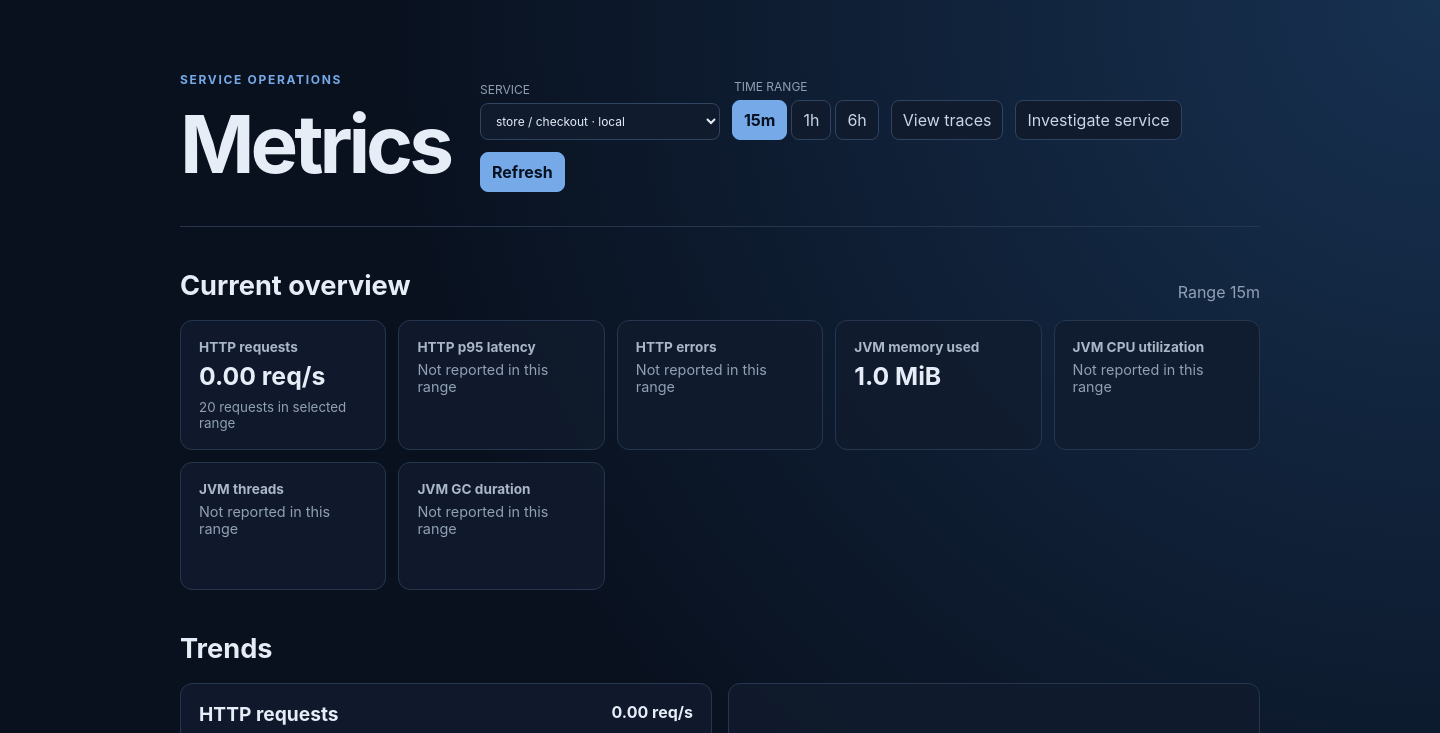
Test: Service metrics › never presents the previous service values while a new identity is loading
The width and height of the screenshot is (1440, 733).
Expected: the text "20 requests in selected range" is shown, x1=199 y1=399 x2=367 y2=431
Select "checkout · staging" in the dropdown labelled "Service": (600, 122) x1=480 y1=103 x2=720 y2=140
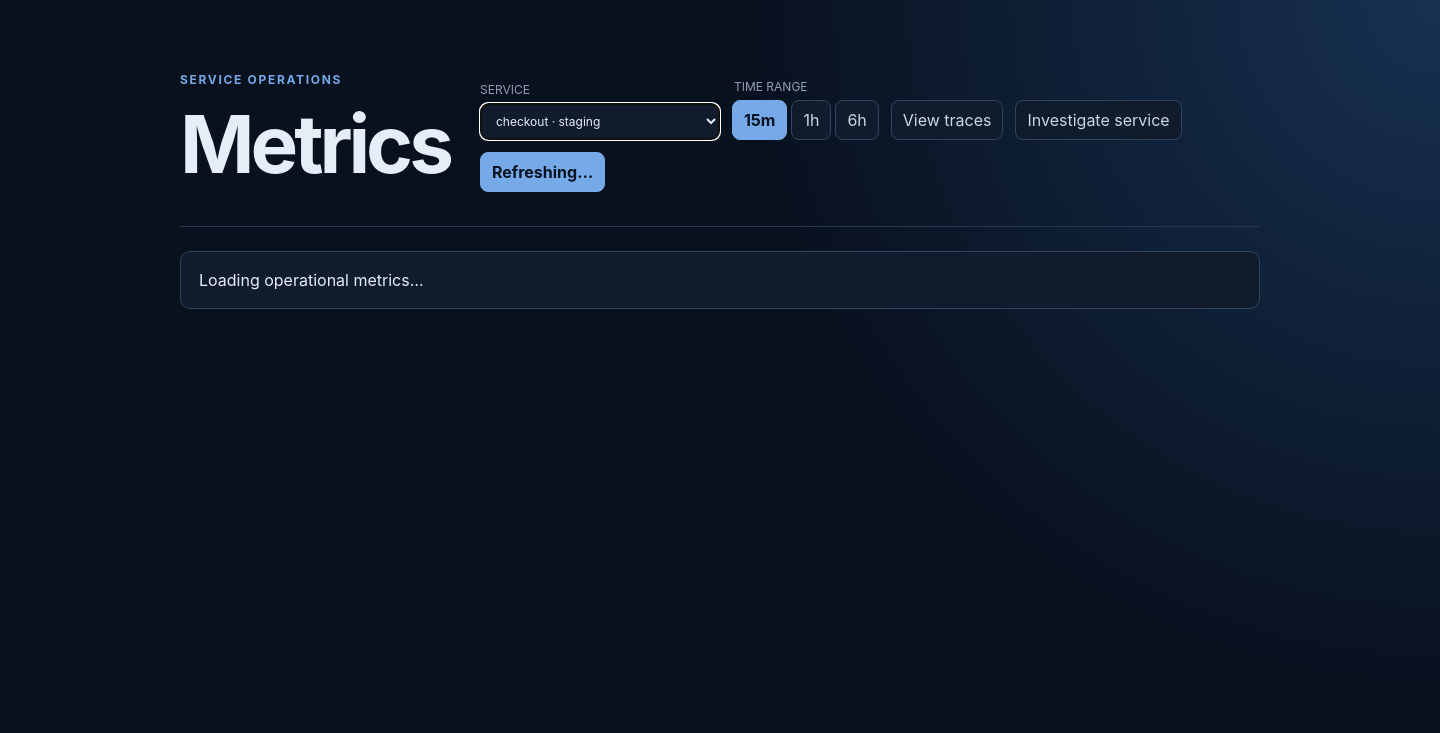
Expected: the text "Loading operational metrics…" is shown, x1=180 y1=251 x2=1260 y2=309
Expected: the text "20 requests in selected range" is gone
